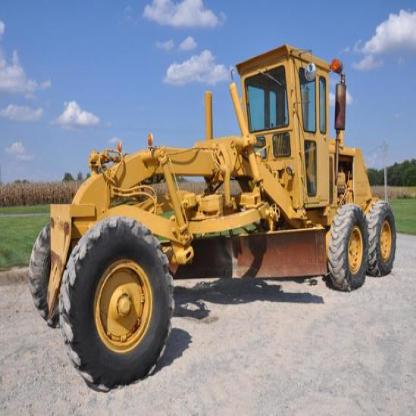bull_dozer/loader/grader: (27, 40, 400, 386)
